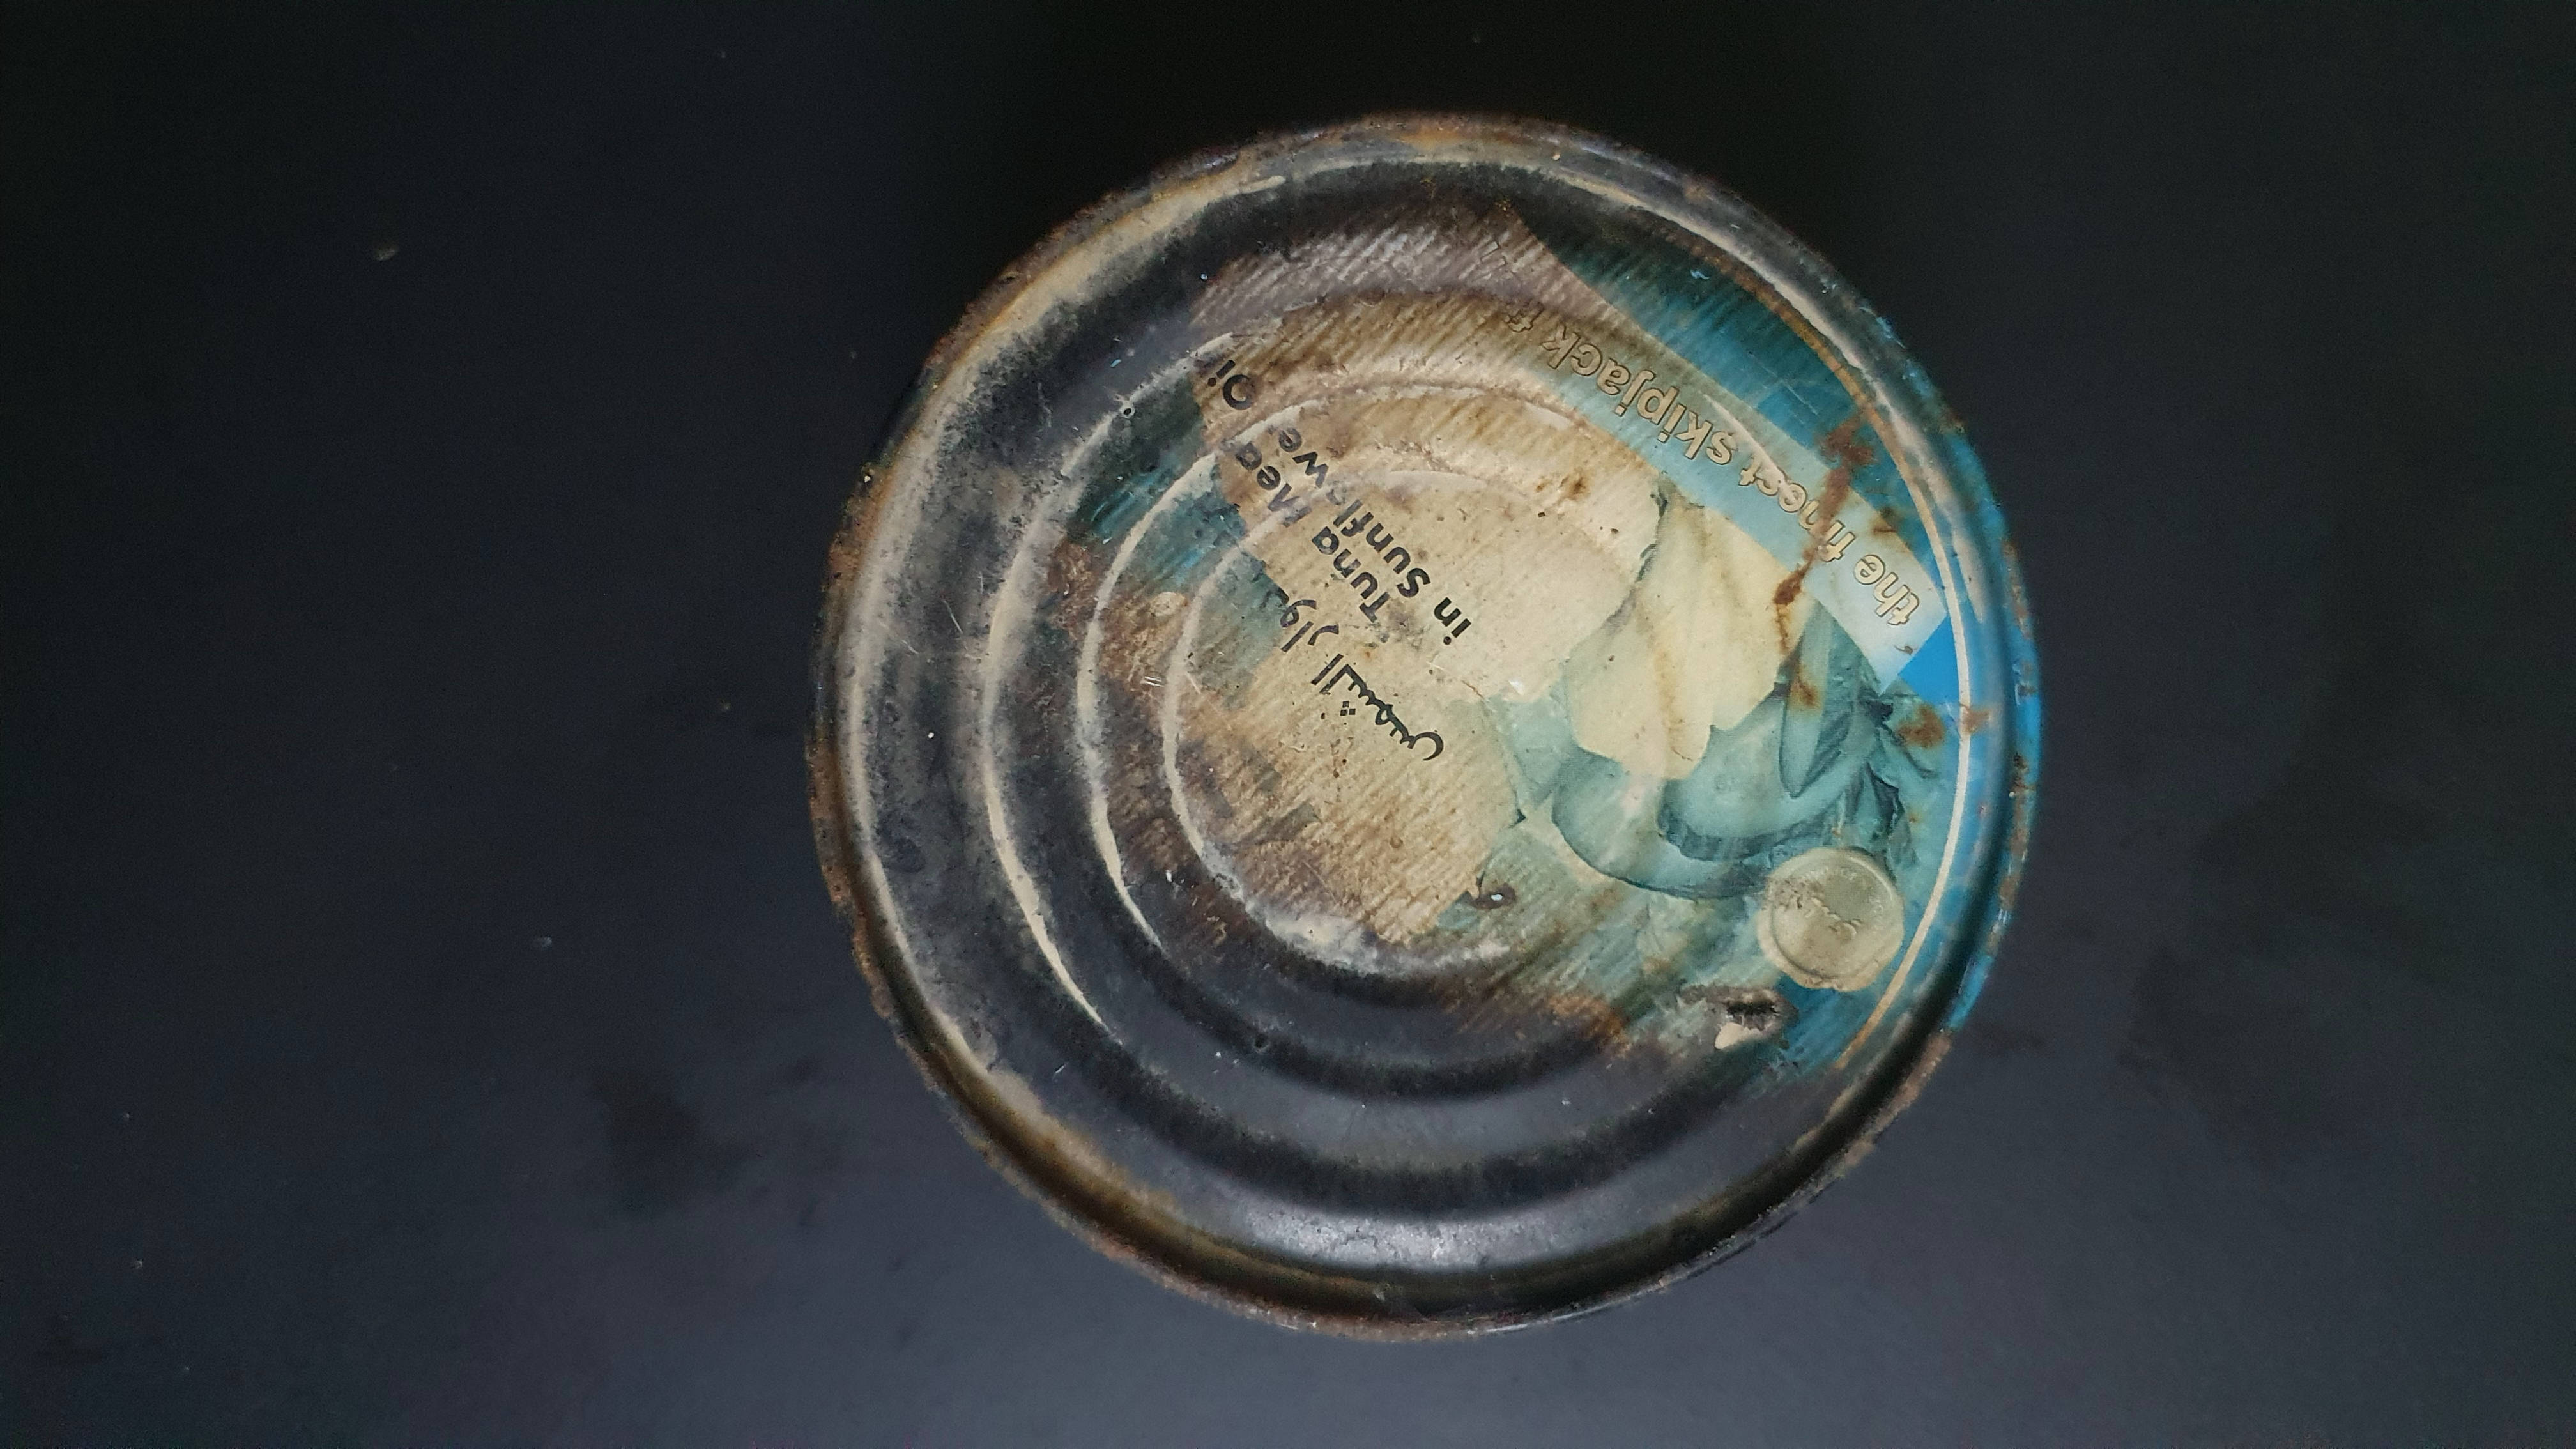metal: (759, 62, 2075, 1361)
